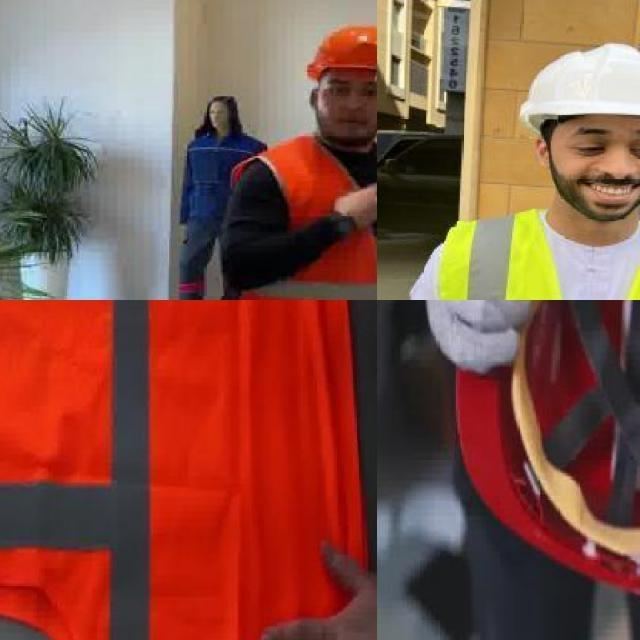apron: (415, 300, 572, 381)
